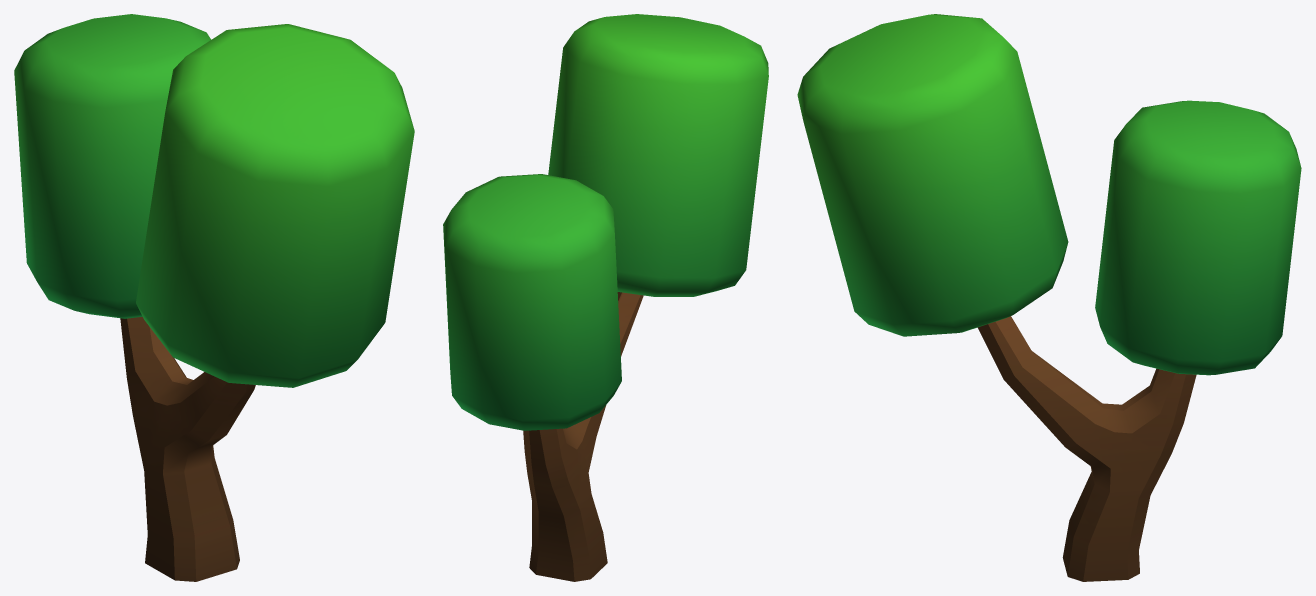
File: Tree_D_2_.glb
The picture shows the model from 3 angles, left to right: view 1: azimuth 30°, elevation 25°; view 2: azimuth 150°, elevation 25°; view 3: azimuth 270°, elevation 25°; orthographic projection. The views are drawn at different scales.
Visible parts, largest first — view 1: Tree_D_2; view 2: Tree_D_2; view 3: Tree_D_2.
Part boxes in pixels (<box>): Tree_D_2: <box>14,14,414,581</box>; Tree_D_2: <box>443,14,768,581</box>; Tree_D_2: <box>797,14,1301,581</box>.
Bounding box in the file's own units: 1.69 × 4.31 × 3.76.
Materials: 1 (1 with a texture image).
